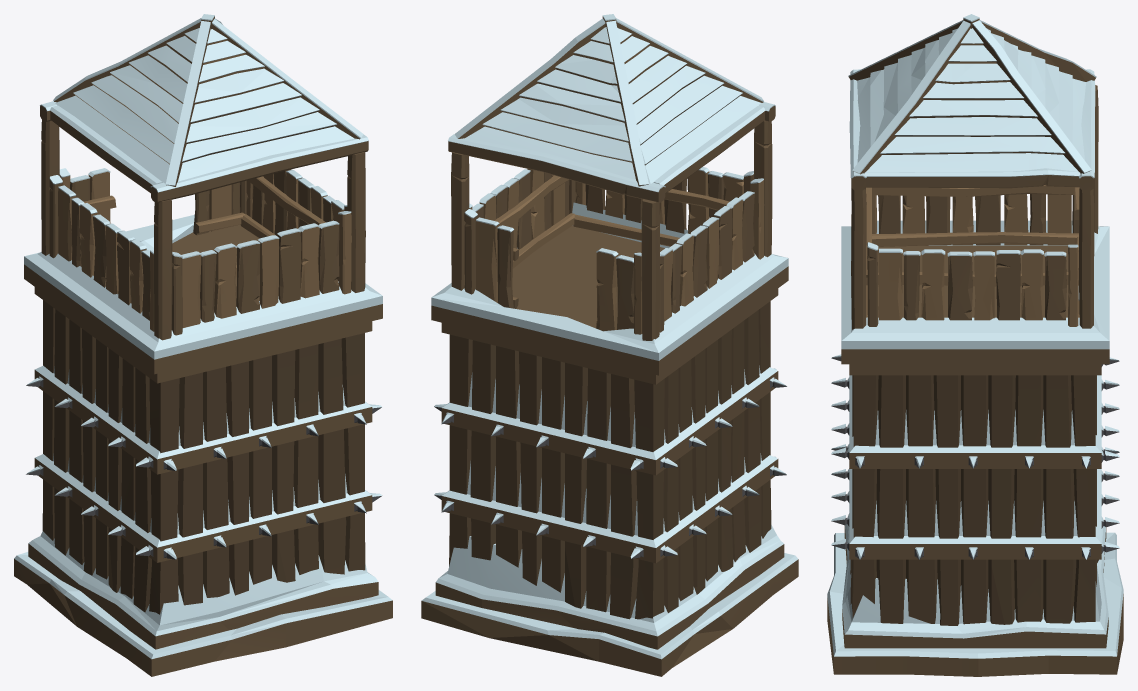
The model's file is Torre_Guardia01.glb.
3 views of the same model, side by side, from view 1: azimuth 30°, elevation 25°; view 2: azimuth 150°, elevation 25°; view 3: azimuth 270°, elevation 25° (orthographic). The views are drawn at different scales.
Parts seen in each view (by area): view 1: SM_Bld_Guard_Tower_01_Snow; view 2: SM_Bld_Guard_Tower_01_Snow; view 3: SM_Bld_Guard_Tower_01_Snow.
Boxes of the visible parts, box(x1,y1,x2,y2) form: SM_Bld_Guard_Tower_01_Snow: box(14, 14, 392, 676); SM_Bld_Guard_Tower_01_Snow: box(421, 14, 798, 676); SM_Bld_Guard_Tower_01_Snow: box(827, 14, 1123, 676).
Bounding box in the file's own units: 3.61 × 8.02 × 3.61.
Materials: 1 (1 with a texture image).
